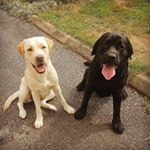puppy: (3, 34, 75, 132), (77, 30, 141, 135)
